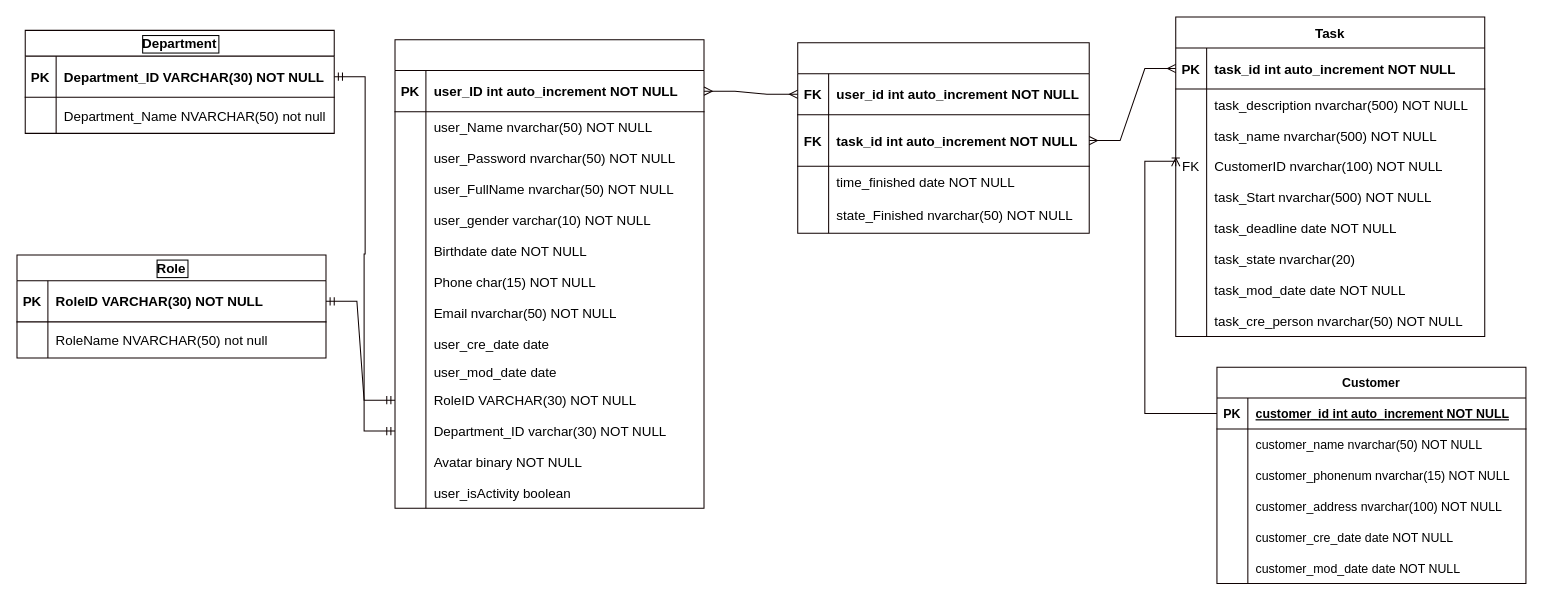
The diagram is 1543 pixels wide and 600 high, and some of its shapes have lost their labels. Each missing label, with the box of its shape:
User_Account: (394, 39, 704, 508)
User_Task: (797, 42, 1089, 233)
